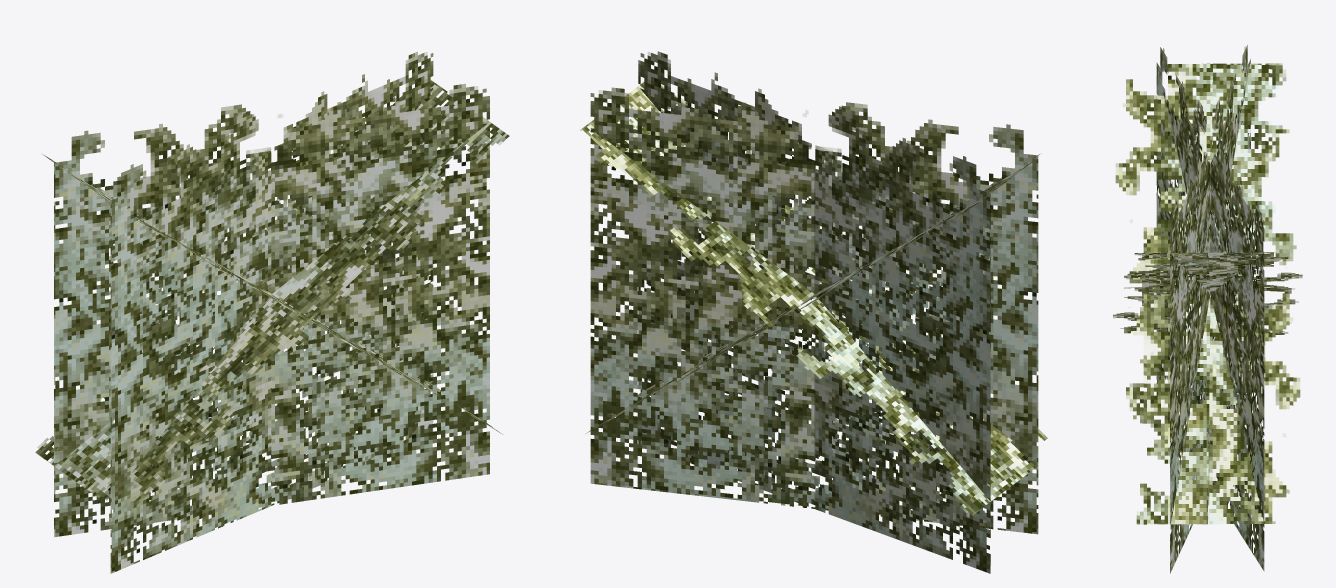
The model's file is bush_tall_full_overgrown_winter.glb.
3 renders of one model, left to right at view 1: azimuth 30°, elevation 25°; view 2: azimuth 150°, elevation 25°; view 3: azimuth 270°, elevation 25°, orthographic. The views are drawn at different scales.
Parts seen in each view (by area): view 1: bush_tall_full_overgrown_winter; view 2: bush_tall_full_overgrown_winter; view 3: bush_tall_full_overgrown_winter.
Boxes of the visible parts, box(x1,y1,x2,y2) form: bush_tall_full_overgrown_winter: box(35, 51, 509, 573); bush_tall_full_overgrown_winter: box(580, 51, 1047, 573); bush_tall_full_overgrown_winter: box(1113, 45, 1302, 573).
Size of the model in its own units: 2 by 2.06 by 1.08.
Materials: 1 (1 with a texture image).
